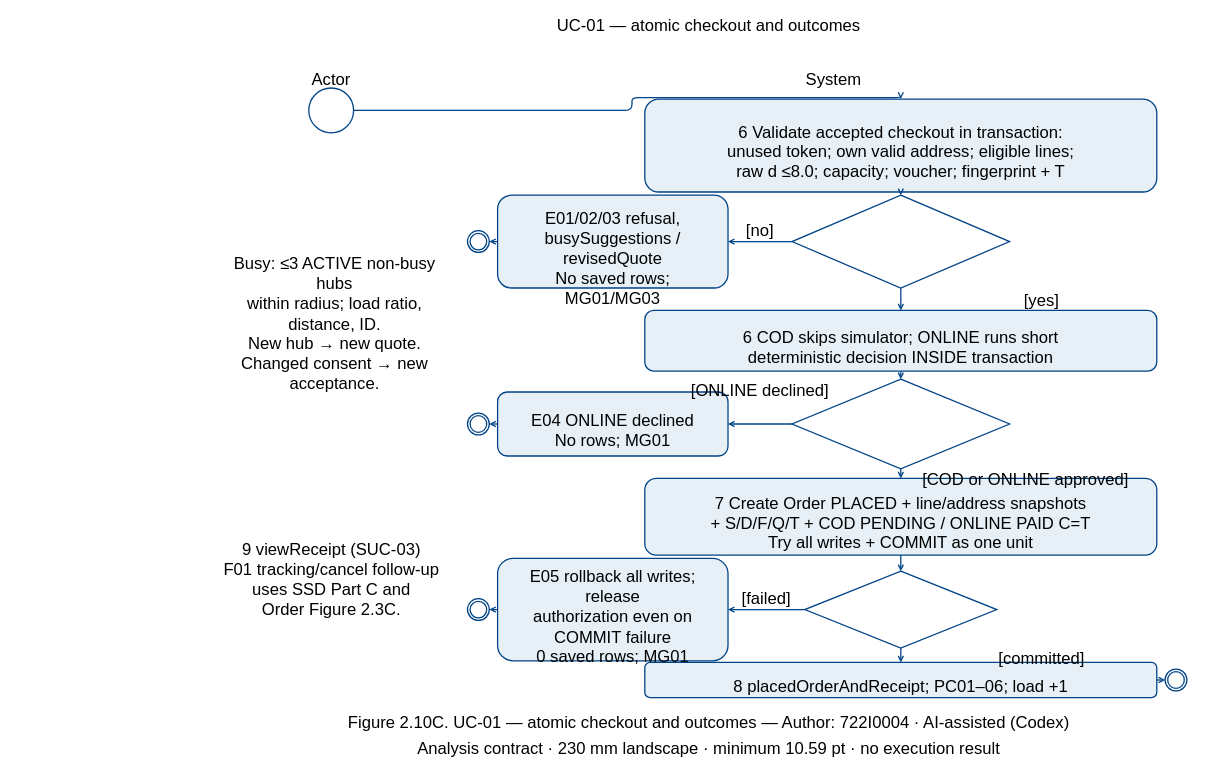
Image size: 1219x769. Some labels were removed from this diagram. Here are the shapes that lost their labels. From the top down, the box of each, then its label:
(308, 87, 354, 133): BC
(791, 194, 1010, 288): All guards + consent match?
(791, 378, 1010, 469): Payment permits creation?
(804, 570, 997, 648): Atomic save?
